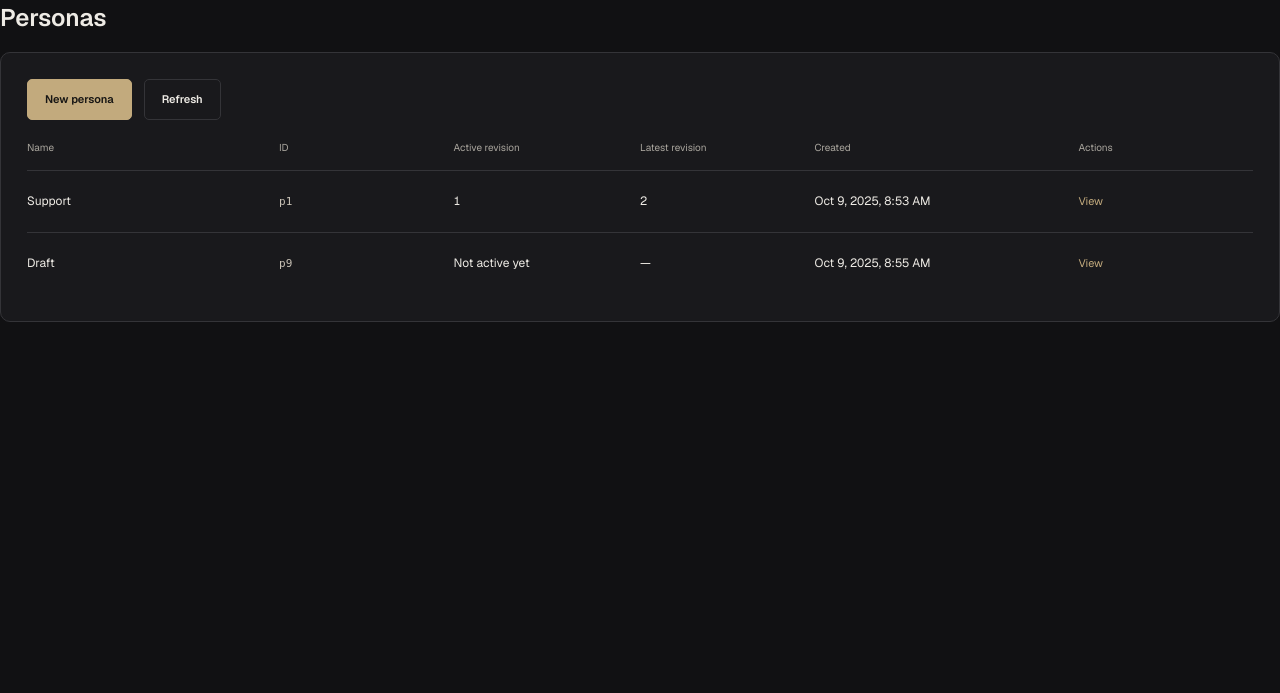
Test case: admin personas section › explains that a timed-out try may still have used tokens
Click the button with aria-label "View Support".
click(1091, 201)  # box [1078,188,1103,214]
(page scrolled)
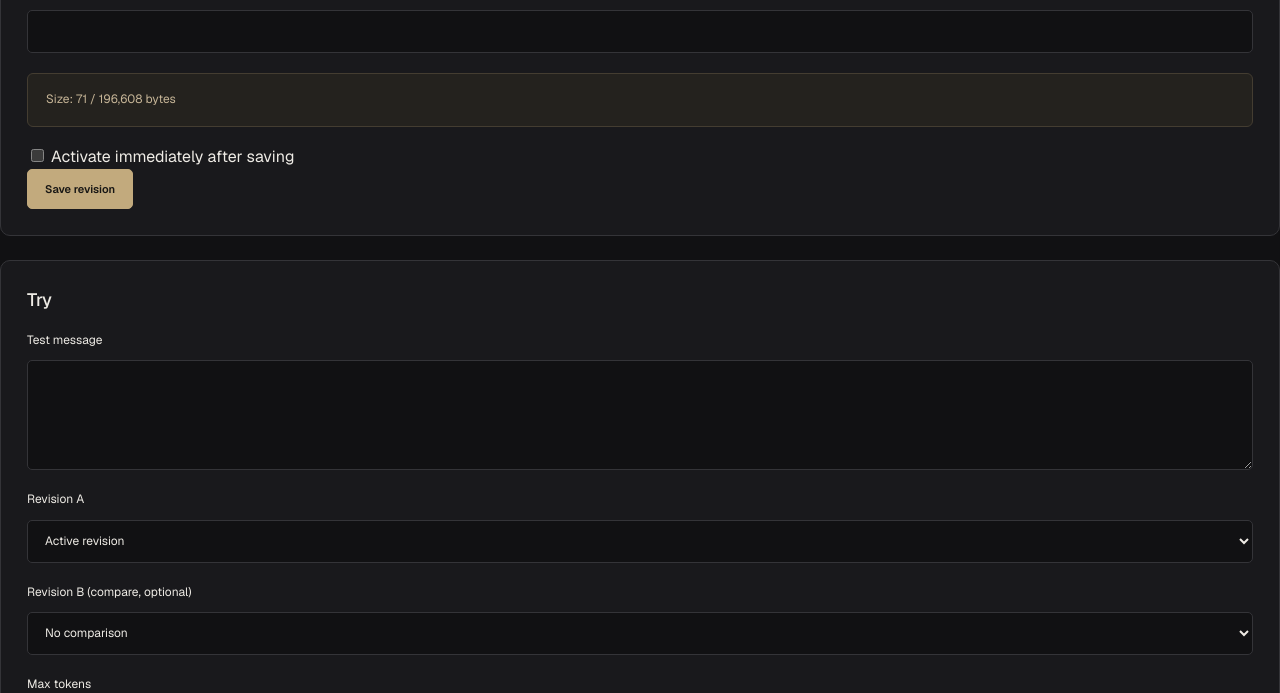
Check: the text "Revision A" is shown, box [27,490,1253,563]
Type "hello" into the text box labelled "Test message".
click(640, 416); type("hello")  # box [27,360,1253,470]
(page scrolled)
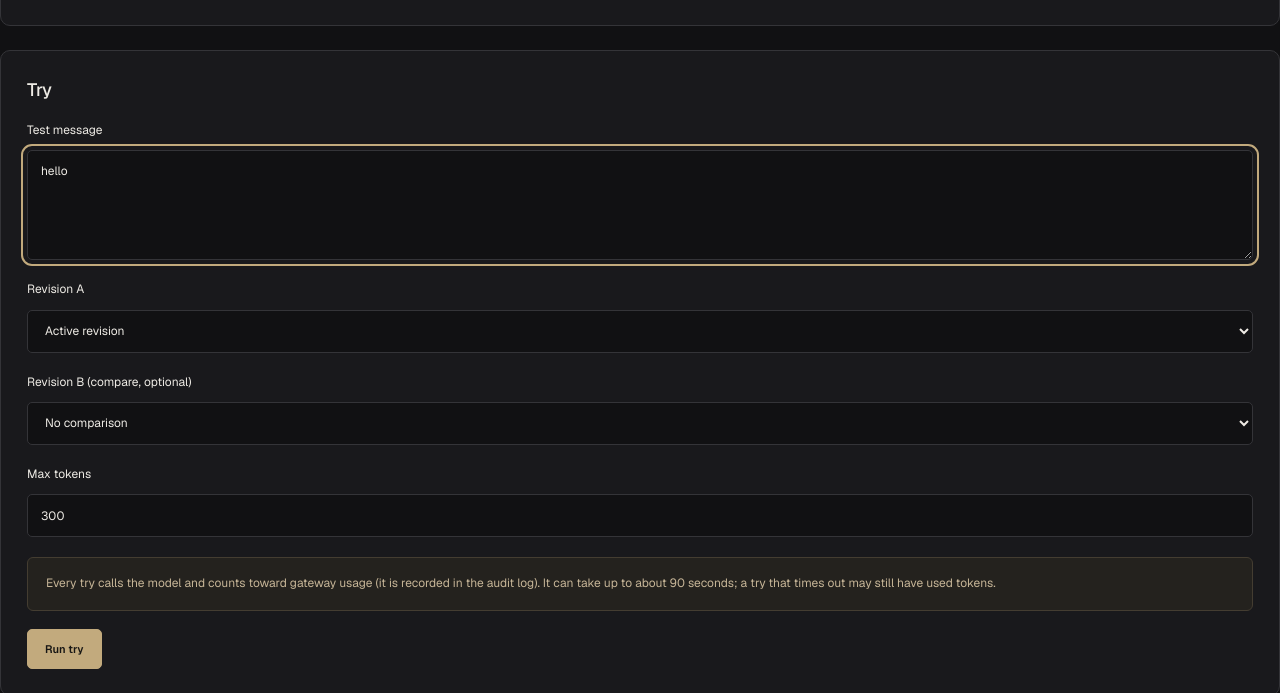
Click the button "Run try".
click(64, 649)  # box [27,629,102,669]
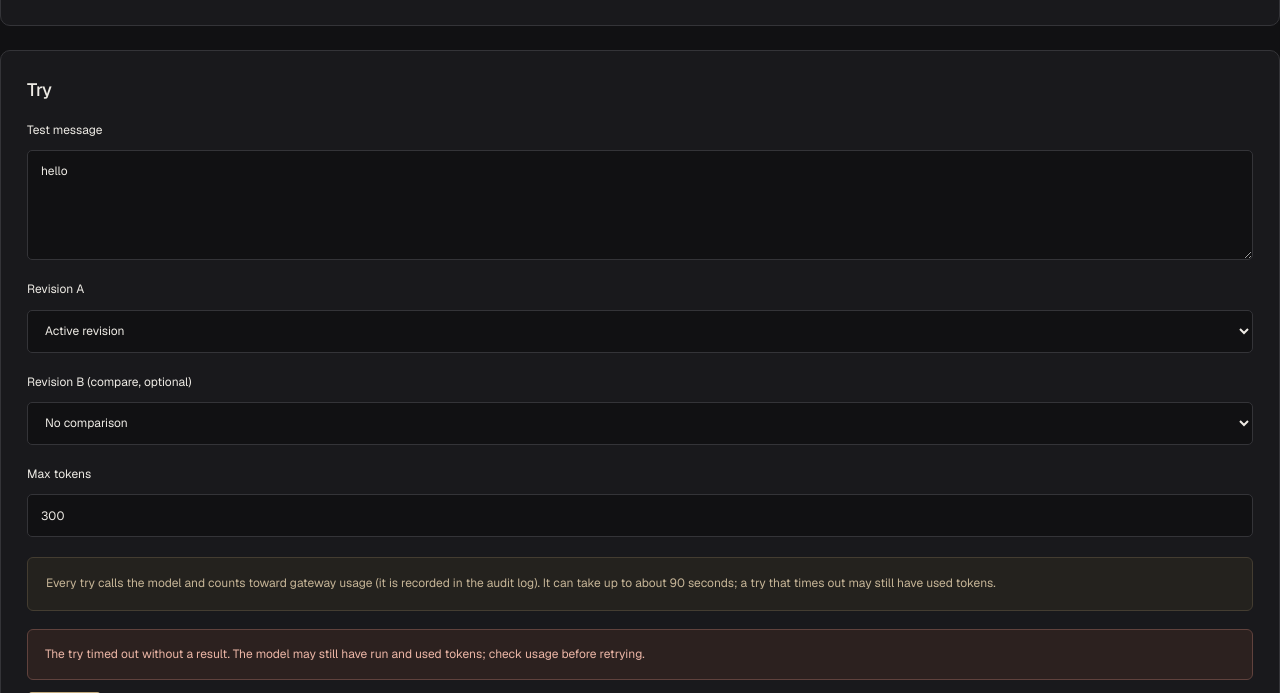
Check: the text "The try timed out without a result. The model may still have run and used tokens; check usage before retrying." is shown, box [45,646,645,662]
